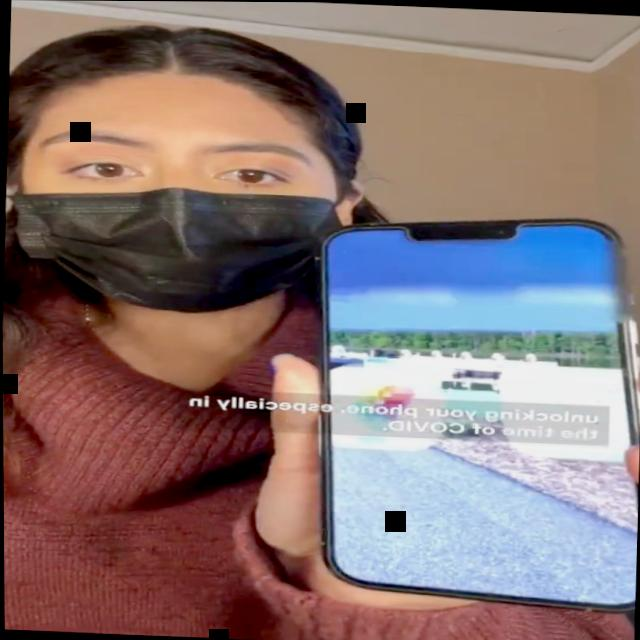Mask: (0, 64, 362, 329)
